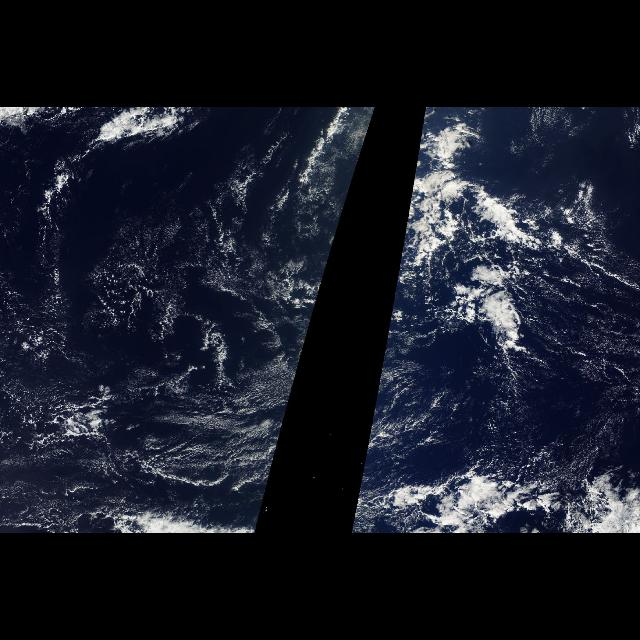Gravel: (105, 226, 318, 494), (356, 305, 452, 493), (2, 381, 126, 449)
Sugar: (94, 214, 318, 491), (530, 258, 640, 467), (361, 390, 403, 474)
